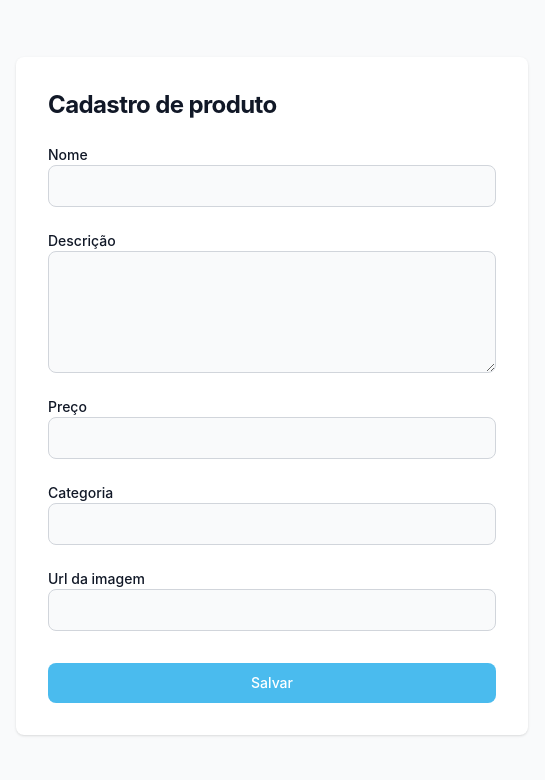
Scenario: ProductForm › should validate fields in form and show all error messages available
Note: Simula a submissão do formulário com valores inválidos
What coordinates should you click on to do the following:
click the button "Salvar"
I would click on:
 (272, 683)
Its box is [48,663,496,703].
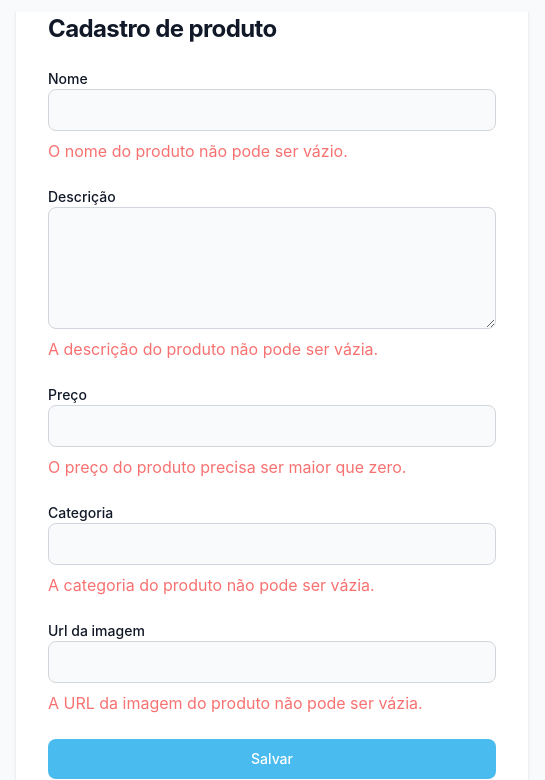
Check: the text "O nome do produto não pode ser vázio." is shown, box [48,141,348,161]
Check: the text "A descrição do produto não pode ser vázia." is shown, box [48,339,378,359]
Check: the text "O preço do produto precisa ser maior que zero." is shown, box [48,457,406,477]
